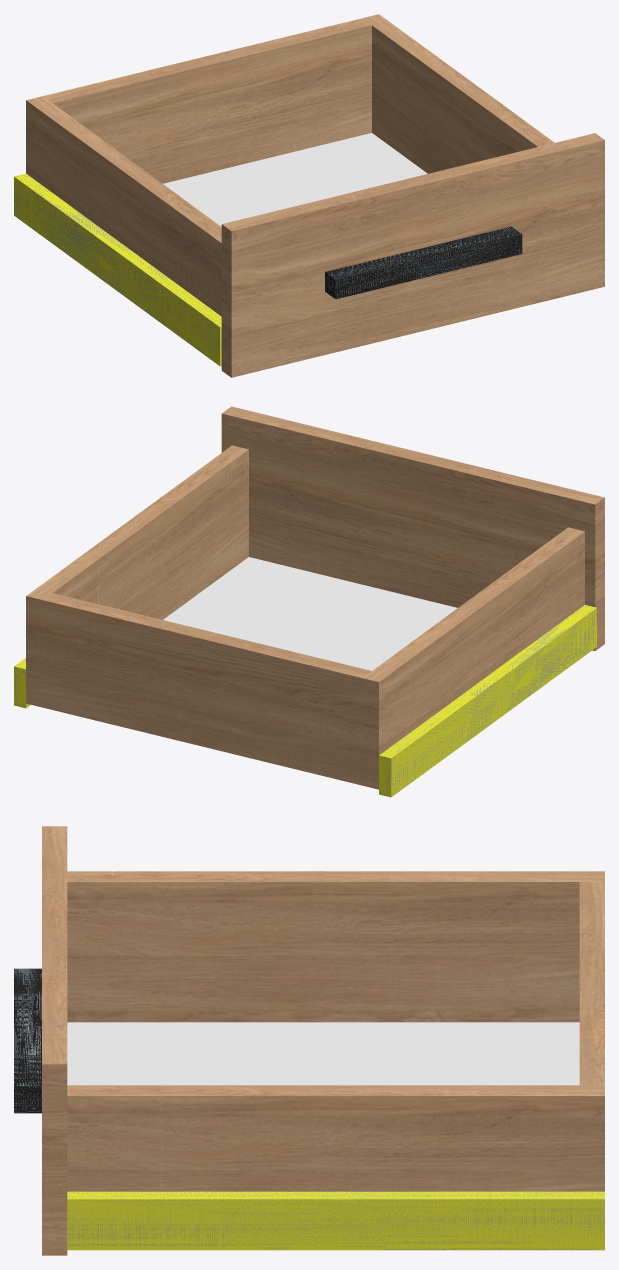
The picture shows the model from 3 angles, top to bottom: view 1: azimuth 30°, elevation 25°; view 2: azimuth 150°, elevation 25°; view 3: azimuth 270°, elevation 25°; orthographic projection. The views are drawn at different scales.
Visible parts, largest first — view 1: SketchUp (×3), instance_1, instance_2; view 2: SketchUp (×3), instance_1; view 3: SketchUp (×3), instance_0, instance_2.
Boxes of the visible parts, bbox=[...] form: SketchUp (×3): bbox=[26, 14, 604, 377]; instance_1: bbox=[14, 173, 221, 366]; instance_2: bbox=[325, 226, 522, 299]; SketchUp (×3): bbox=[26, 406, 604, 789]; instance_1: bbox=[379, 605, 596, 797]; SketchUp (×3): bbox=[42, 826, 604, 1255]; instance_0: bbox=[67, 1191, 604, 1250]; instance_2: bbox=[14, 968, 41, 1113].
Bounding box in the file's own units: 15.91 × 16.54 × 5.91.
